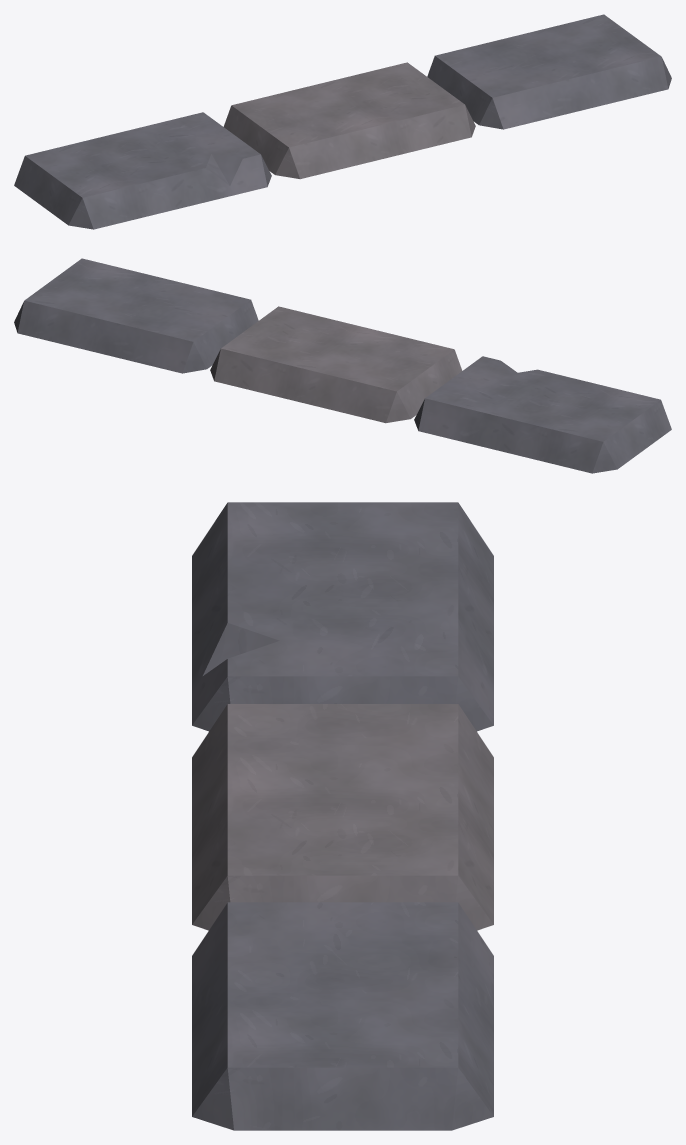
The model's file is worn_sill.gltf.
3 views of the same model, one above another, from view 1: azimuth 30°, elevation 25°; view 2: azimuth 150°, elevation 25°; view 3: azimuth 270°, elevation 25° (orthographic). The views are drawn at different scales.
Visible parts, largest first — view 1: worn_sill; view 2: worn_sill; view 3: worn_sill.
Part boxes in pixels (x1=…): worn_sill: x1=14, y1=14, x2=671, y2=229; worn_sill: x1=14, y1=258, x2=671, y2=473; worn_sill: x1=192, y1=502, x2=493, y2=1130.
Bounding box in the file's own units: 2.31 × 0.094 × 0.5.
2 materials, 2 textured.
